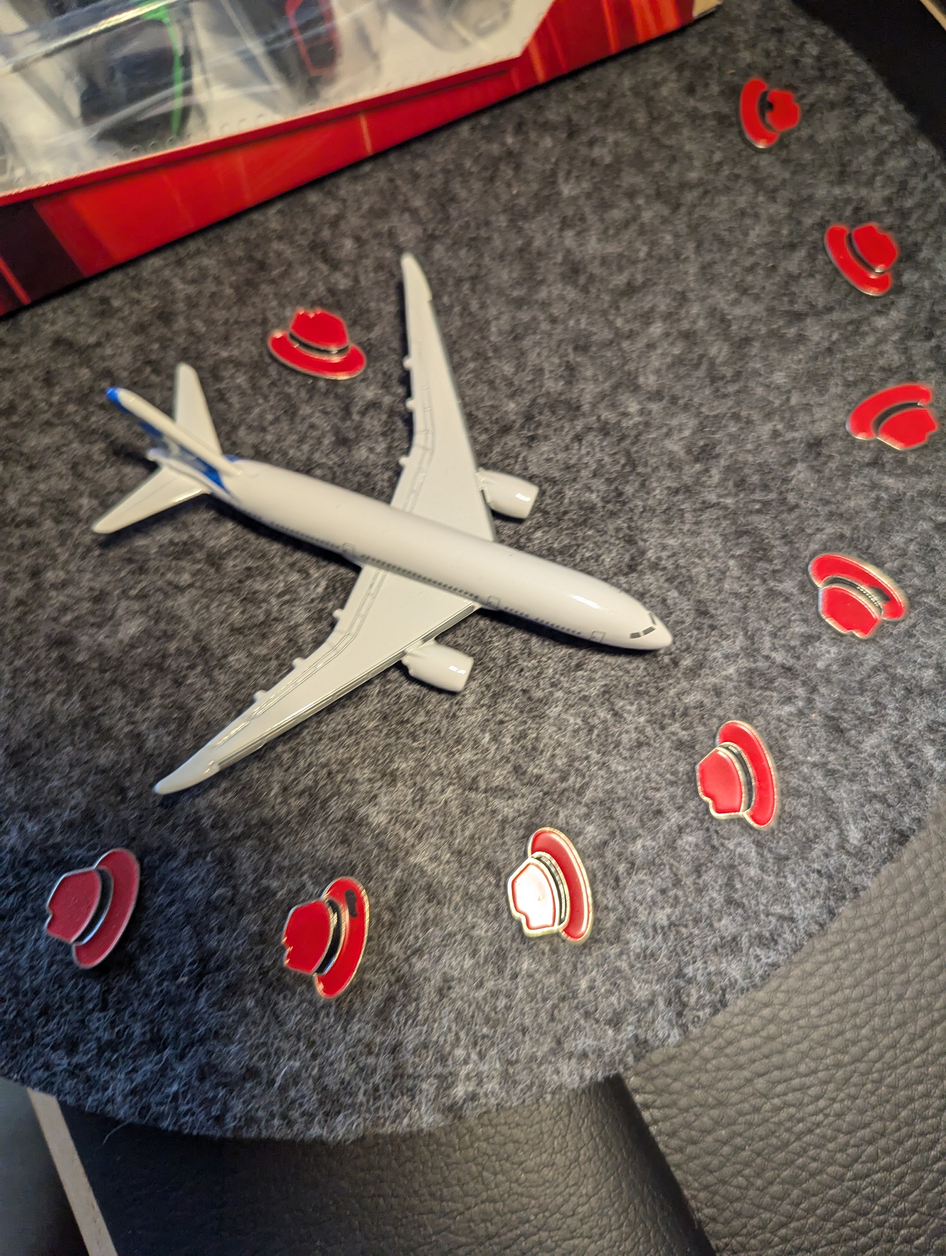Airplane: (65, 218, 679, 805)
Red-Hat: (33, 831, 157, 992), (489, 806, 605, 974), (272, 860, 394, 1011), (679, 697, 795, 843), (791, 540, 930, 661), (253, 293, 384, 400), (833, 364, 946, 476), (809, 203, 915, 311), (728, 55, 815, 156)
Scratch: (332, 882, 366, 937), (862, 573, 897, 607), (755, 90, 784, 123)
